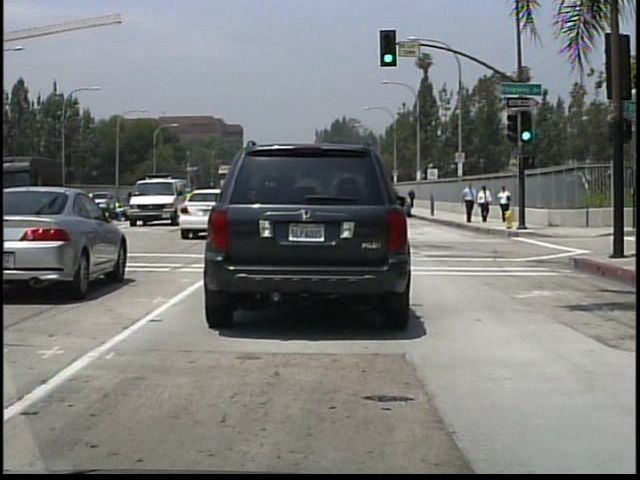person: (460, 180, 476, 224), (477, 185, 493, 223), (497, 184, 512, 212), (409, 187, 417, 209)
